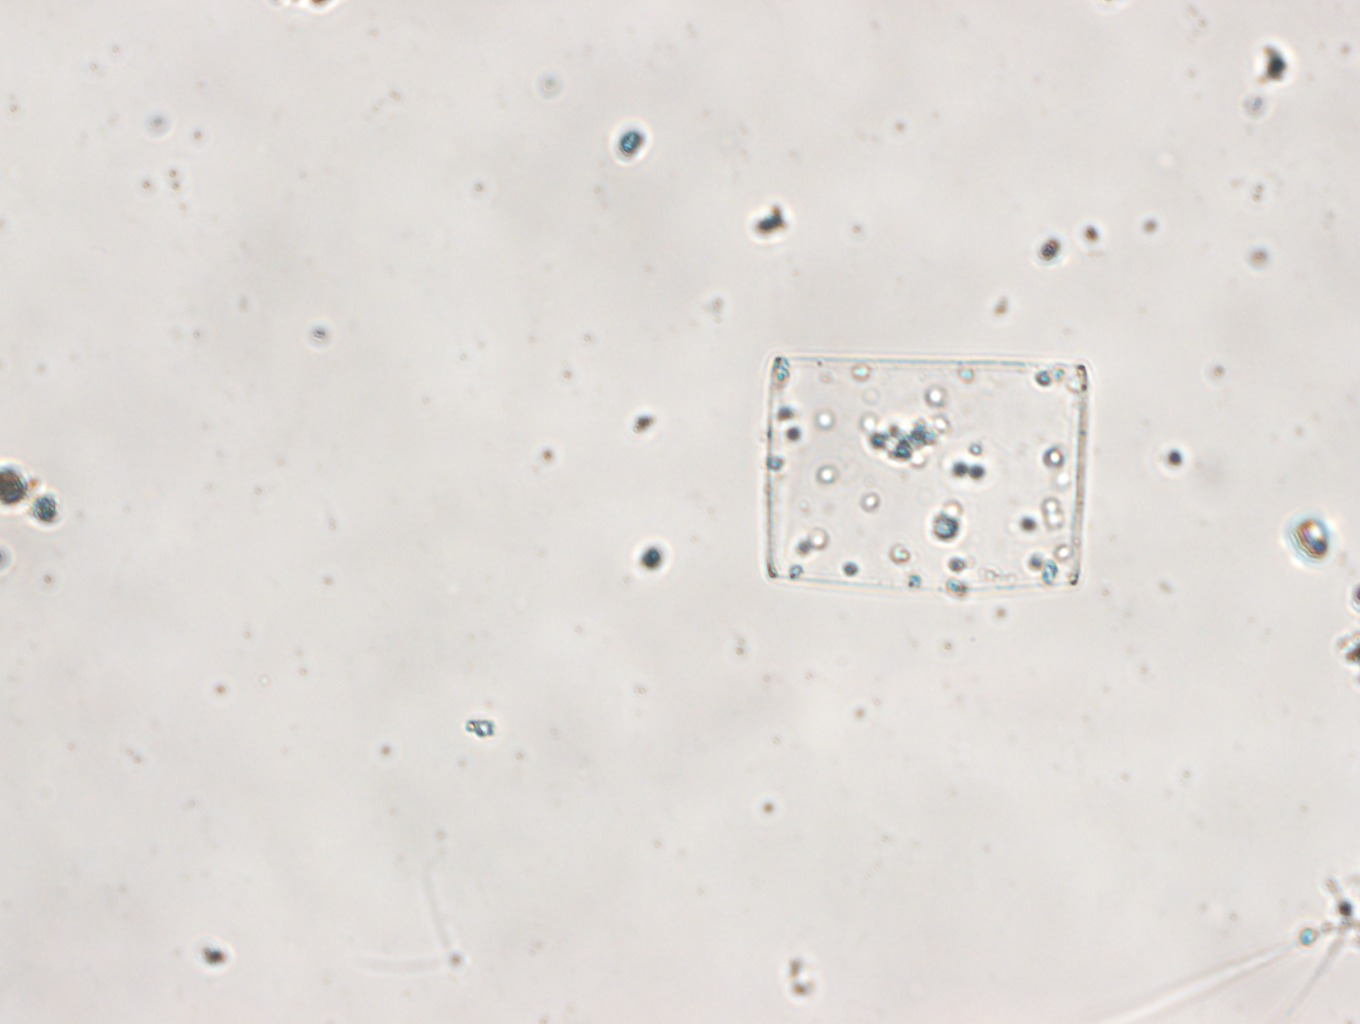guinardia flaccida: (765, 352, 1083, 587)
